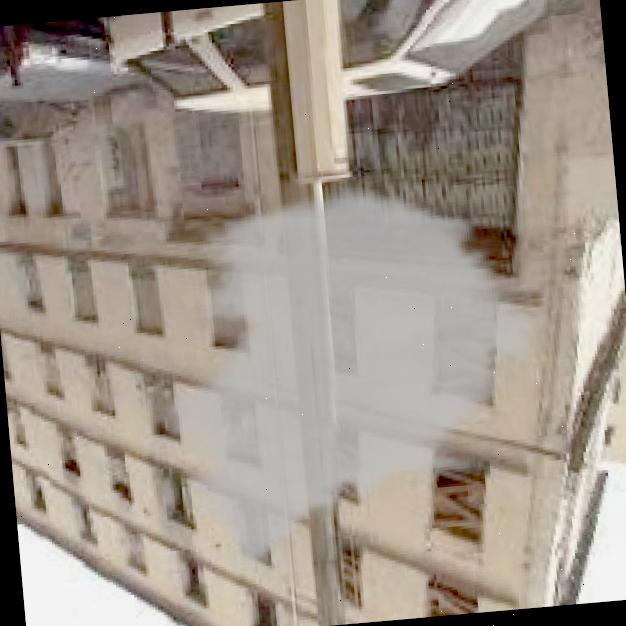smoke: (134, 169, 568, 580)
